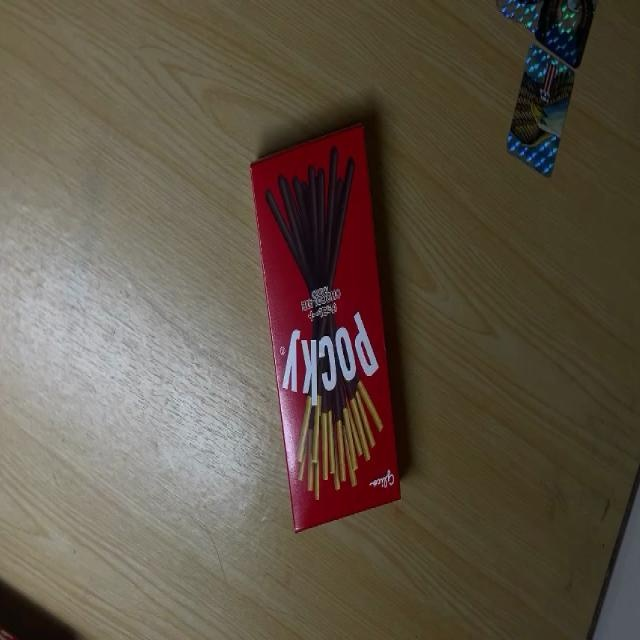Pocky: (250, 123, 402, 536)
